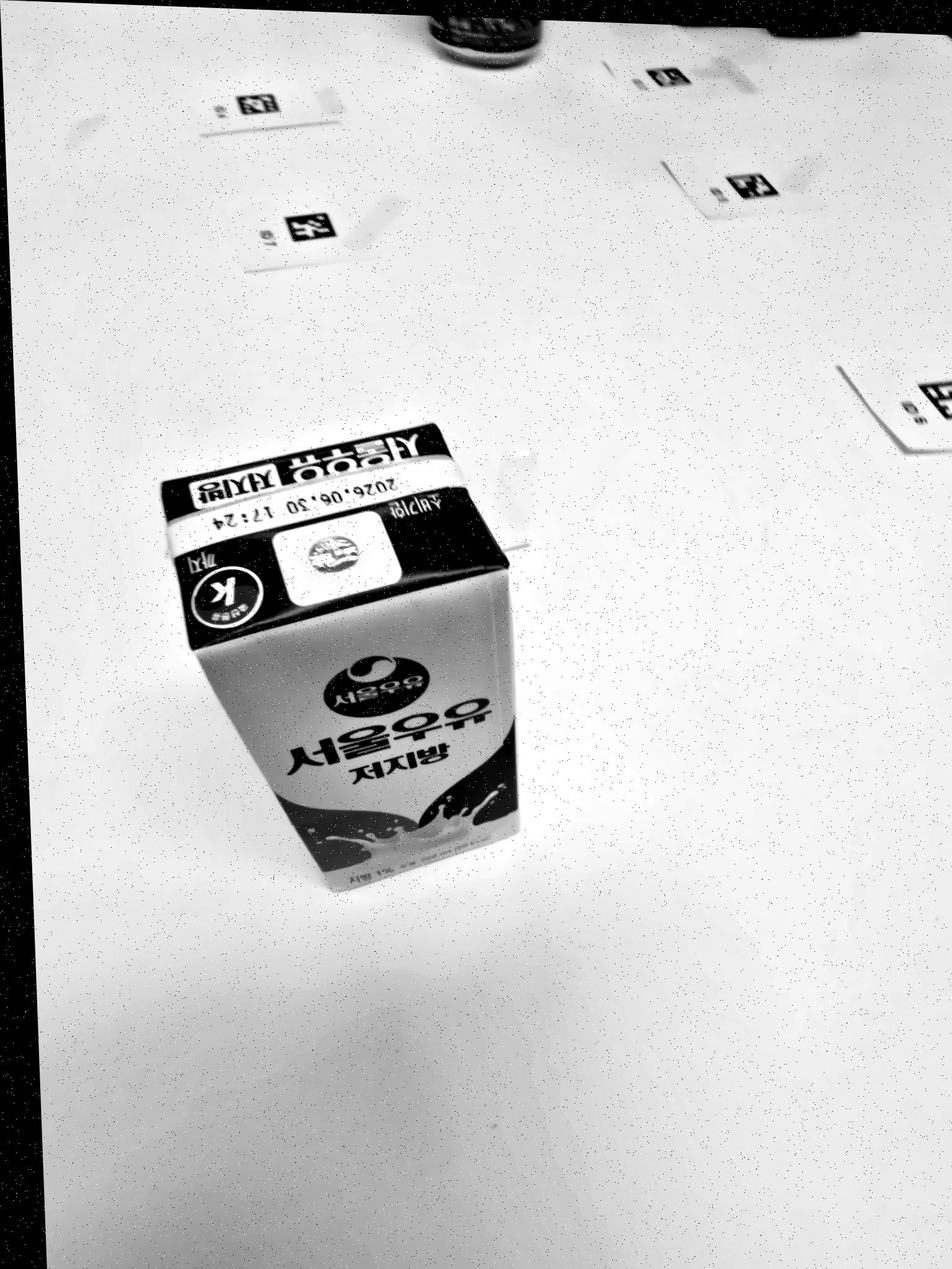milk_blue: (161, 422, 525, 892)
